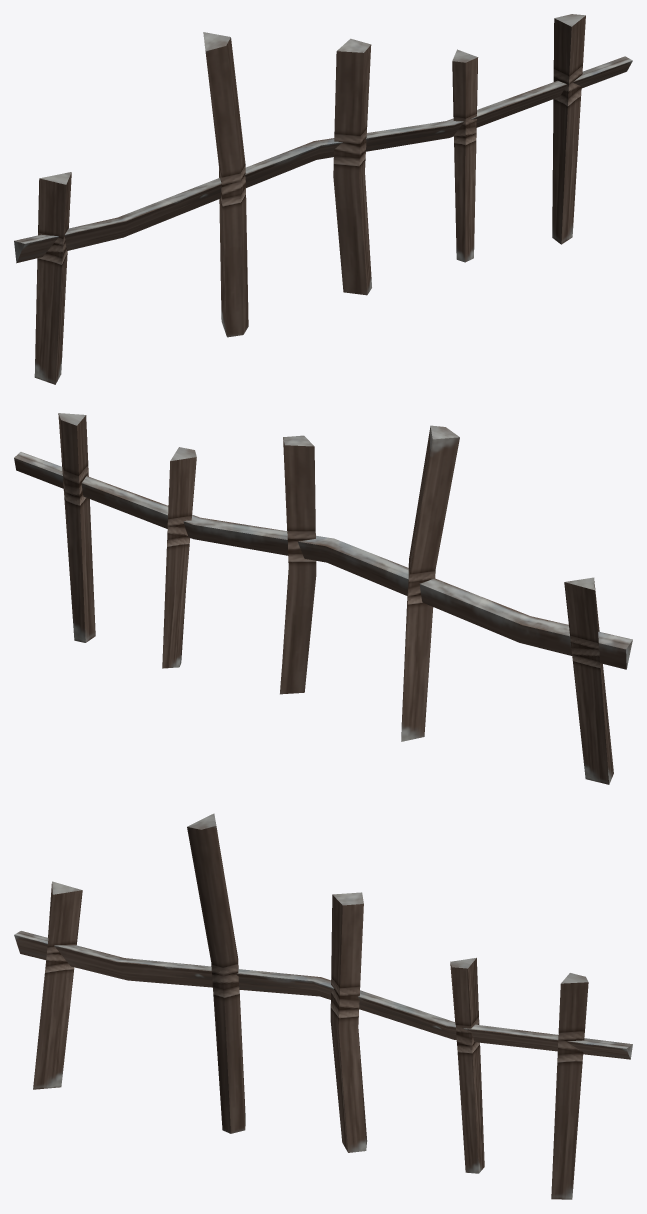
The model's file is snow_a_r07.fbx.
3 renders of one model, top to bottom at view 1: azimuth 30°, elevation 25°; view 2: azimuth 150°, elevation 25°; view 3: azimuth 330°, elevation 25°, orthographic.
Parts seen in each view (by area): view 1: snow_a_r07; view 2: snow_a_r07; view 3: snow_a_r07.
Boxes of the visible parts, x1=… form: snow_a_r07: x1=14, y1=14, x2=632, y2=384; snow_a_r07: x1=14, y1=413, x2=632, y2=784; snow_a_r07: x1=14, y1=813, x2=632, y2=1199.
Bounding box in the file's own units: 433 × 207 × 29.96.
